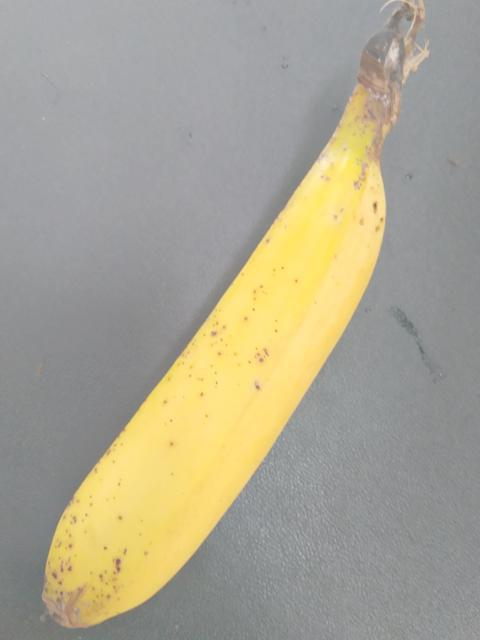ripe: (42, 168, 375, 639)
